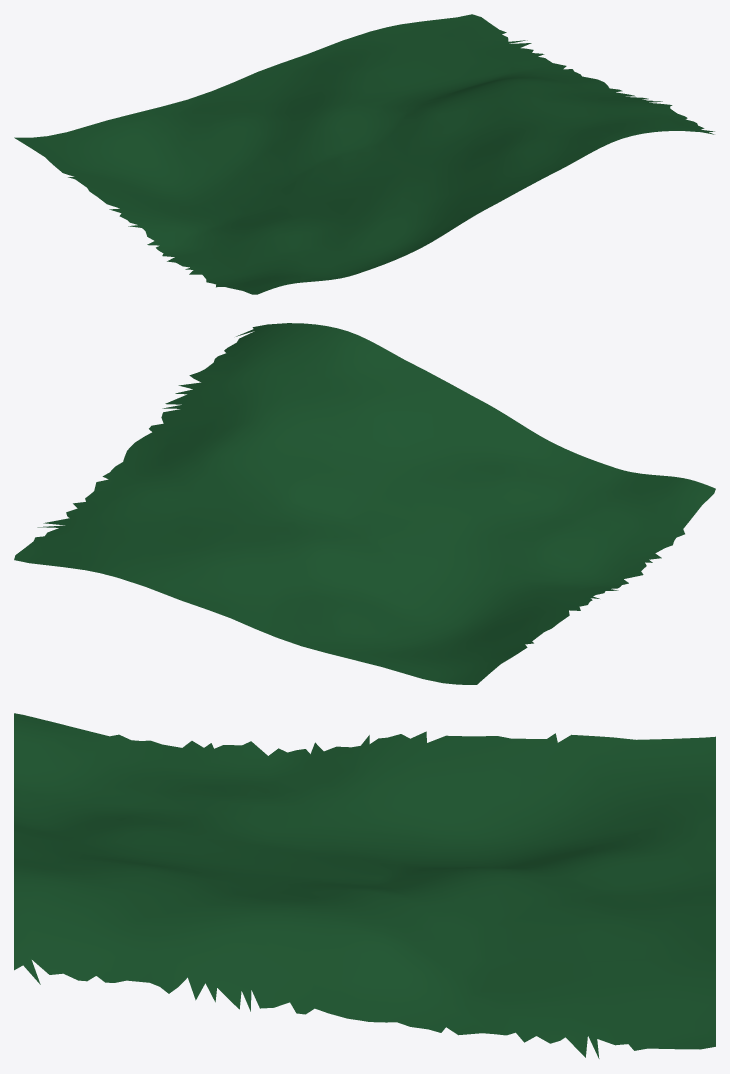
File: payo_land_x0_ym4_lod1.glb
3 renders of one model, top to bottom at view 1: azimuth 30°, elevation 25°; view 2: azimuth 150°, elevation 25°; view 3: azimuth 270°, elevation 25°, orthographic. The views are drawn at different scales.
Visible parts, largest first — view 1: payo_land_x0_ym4; view 2: payo_land_x0_ym4; view 3: payo_land_x0_ym4.
Part boxes in pixels (x1,y1,x2,y2): payo_land_x0_ym4: [14, 14, 714, 294]; payo_land_x0_ym4: [14, 323, 715, 684]; payo_land_x0_ym4: [14, 713, 715, 1058].
Bounding box in the file's own units: 268 × 58.66 × 231.
